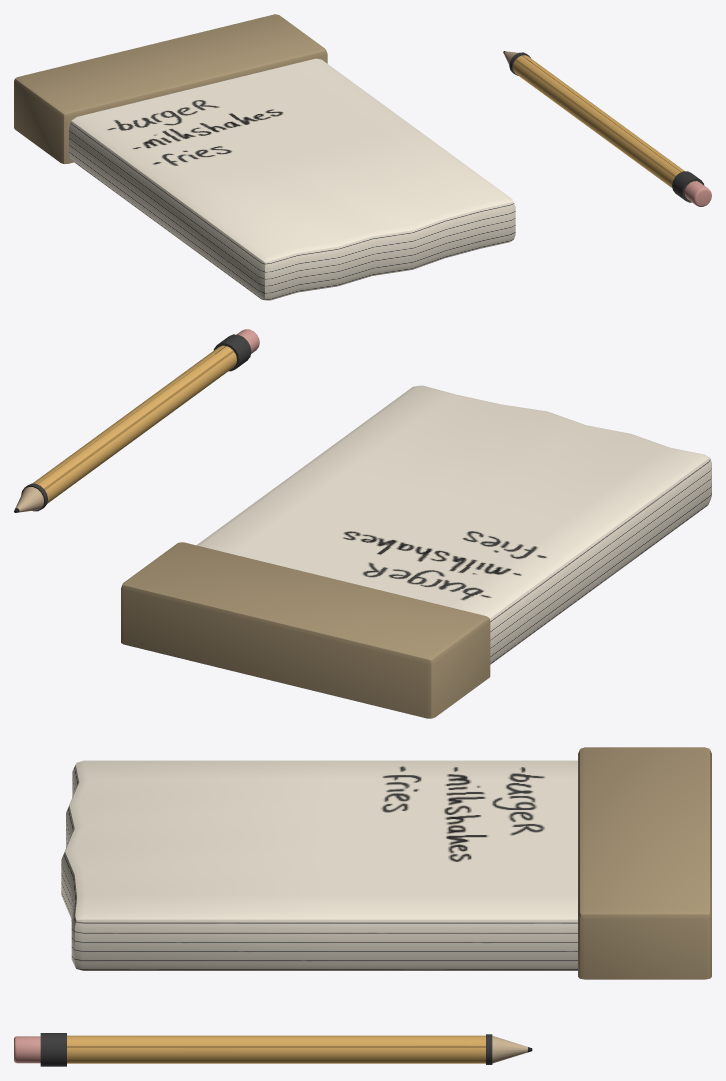
File: Notepad + pen.fbx
3 views of the same model, one above another, from view 1: azimuth 30°, elevation 25°; view 2: azimuth 150°, elevation 25°; view 3: azimuth 270°, elevation 25° (orthographic). The views are drawn at different scales.
Visible parts, largest first — view 1: Notepad; view 2: Notepad; view 3: Notepad.
Boxes of the visible parts, left/top/right/bottom form: Notepad: left=14, top=14, right=711, bottom=300; Notepad: left=14, top=329, right=711, bottom=718; Notepad: left=14, top=747, right=711, bottom=1066.
Size of the model in its own units: 49.01 by 5.49 by 52.52.
